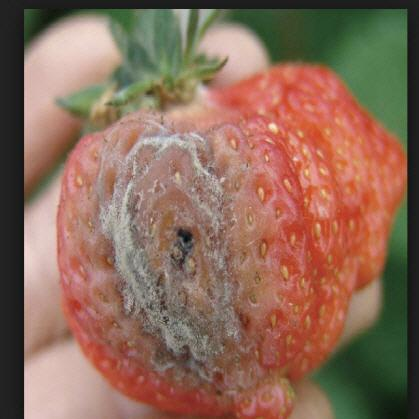Gray Mold: (56, 85, 325, 418)
